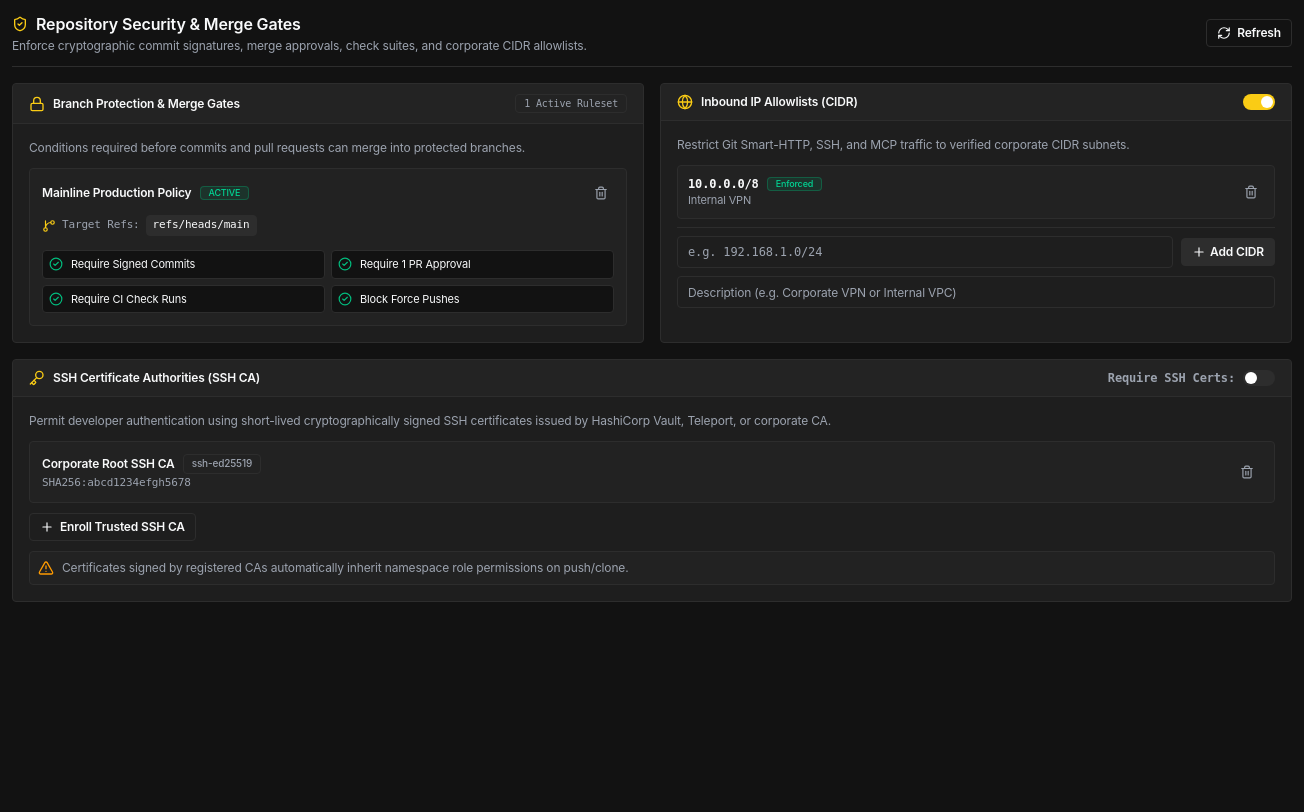
Scenario: RulesetsView › renders SSH Certificate Authorities and opens enrollment form
The image size is (1304, 812).
Expected: the text "Corporate Root SSH CA" is shown, [42, 456, 175, 472]
Expected: the text "SHA256:abcd1234efgh5678" is shown, [42, 476, 191, 489]
Click the button "Enroll Trusted SSH CA": (112, 527) [29, 513, 196, 541]
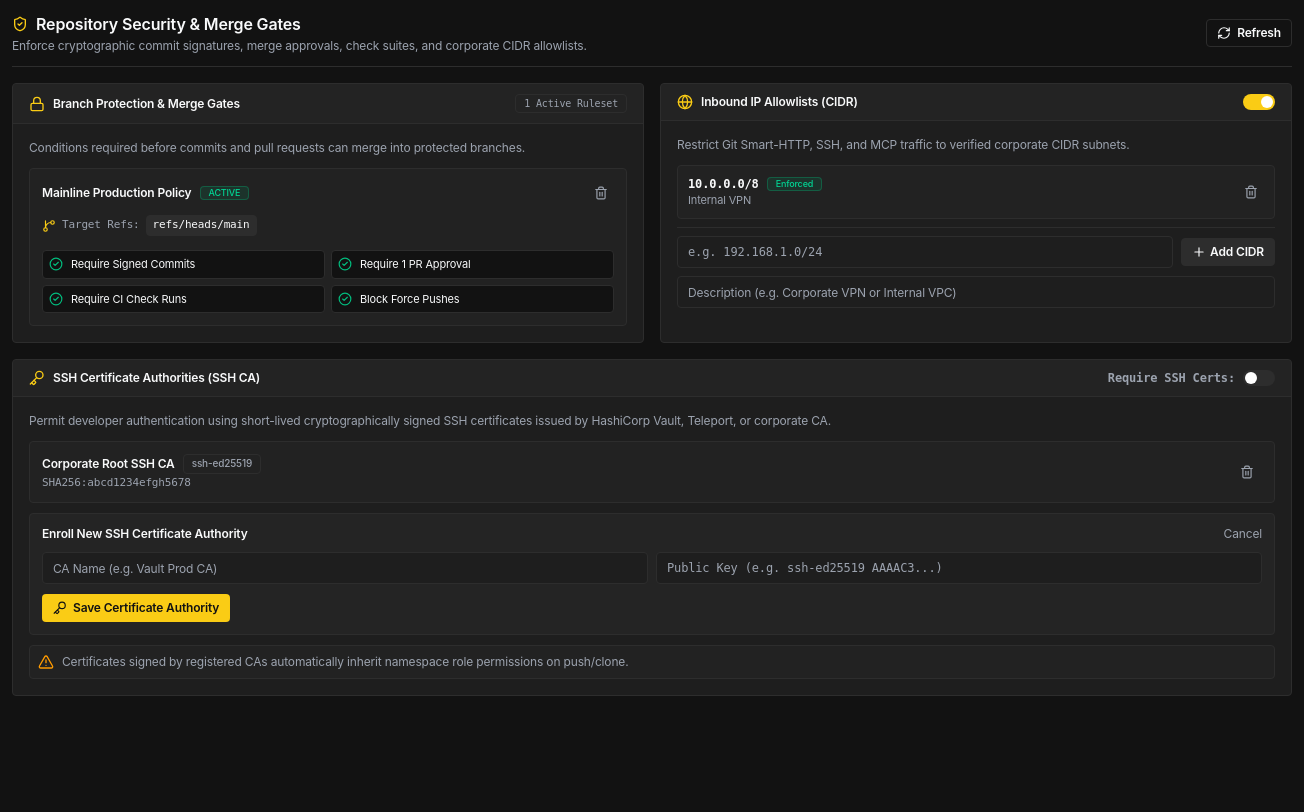
Expected: the field with placeholder "CA Name (e.g. Vault Prod CA)" is shown, [42, 552, 648, 584]
